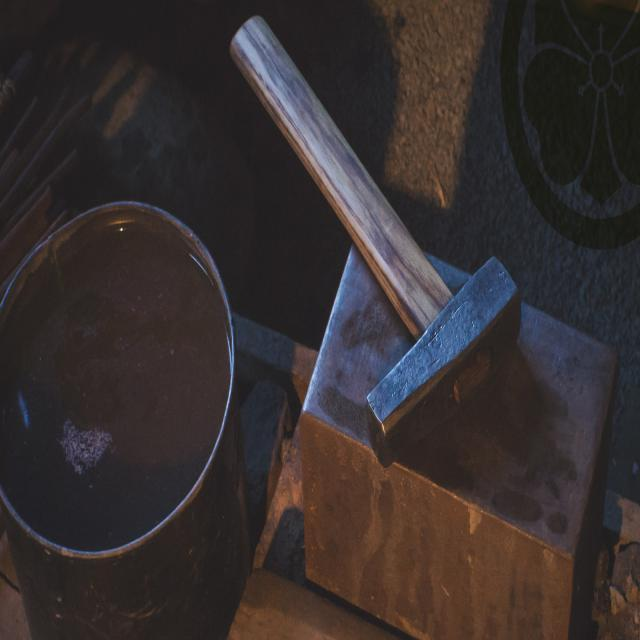hammer: (225, 6, 528, 473)
